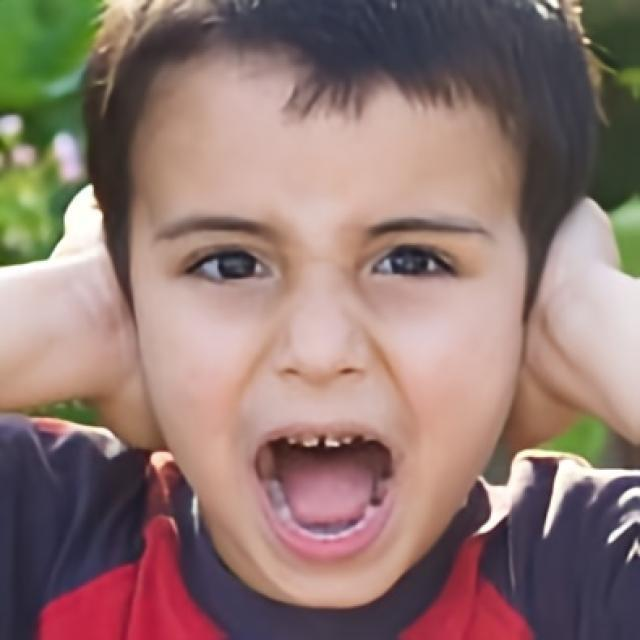surprise: (124, 22, 534, 614)
